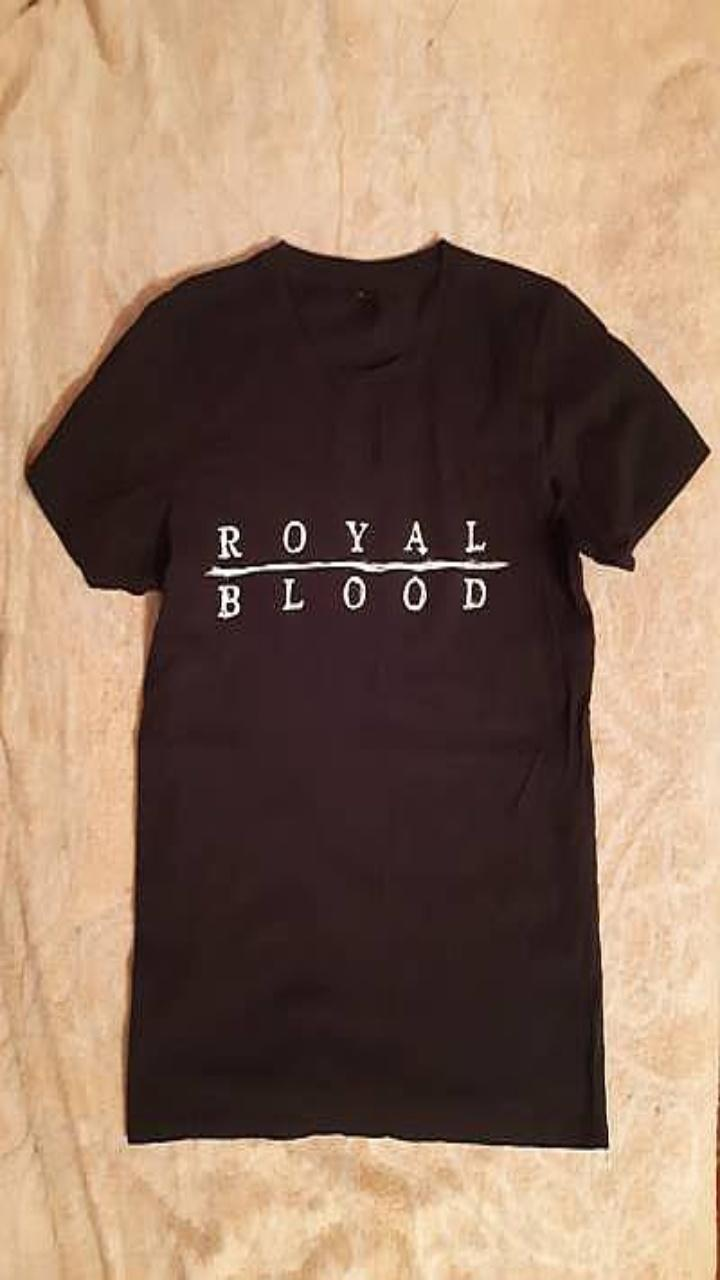T-Shirt: (25, 239, 709, 1147)
